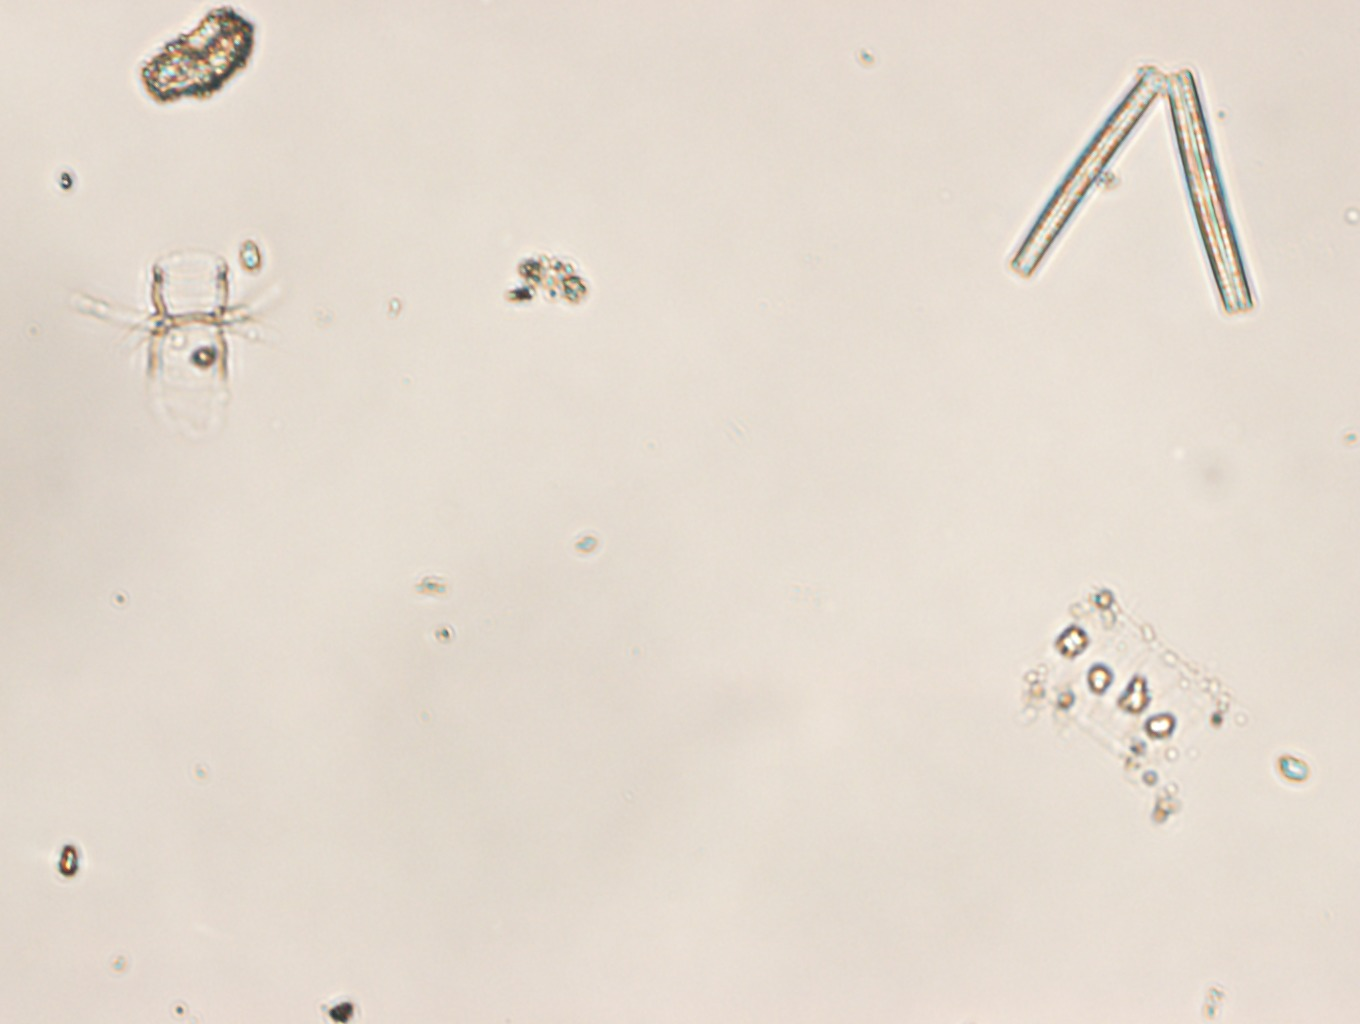chaetoceros: (1025, 574, 1250, 811), (75, 251, 280, 433)
thalassionema nitzschioides: (1008, 62, 1256, 313)
